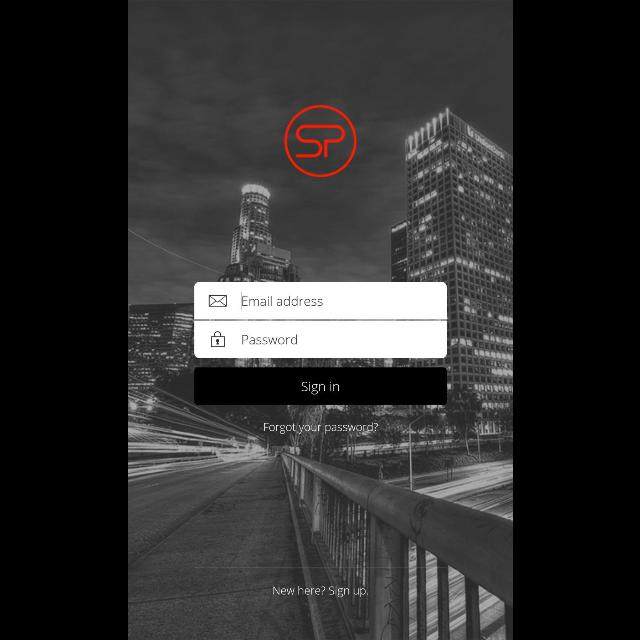backgroundimage: (128, 1, 512, 640)
icon: (210, 331, 224, 347), (208, 295, 226, 307)
image: (284, 104, 356, 178)
input: (194, 320, 446, 358), (194, 282, 446, 320)
text: (263, 422, 377, 434), (272, 586, 368, 598), (242, 296, 322, 306), (242, 335, 296, 345)
textbutton: (194, 368, 446, 404)
